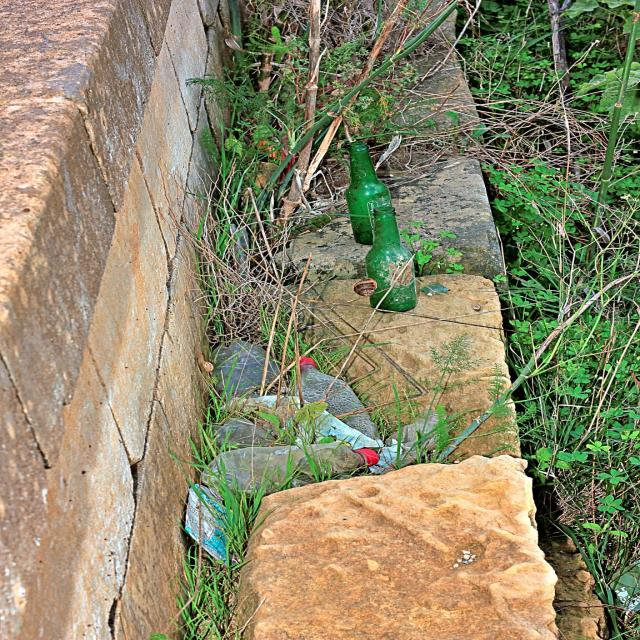Bottle: (200, 443, 382, 497), (291, 358, 381, 442), (364, 206, 418, 313), (346, 140, 395, 245), (212, 338, 288, 399), (208, 418, 281, 449)
Other plastic: (221, 395, 383, 449), (368, 410, 445, 473)
Plastic bag - wrapper: (182, 483, 236, 570)
